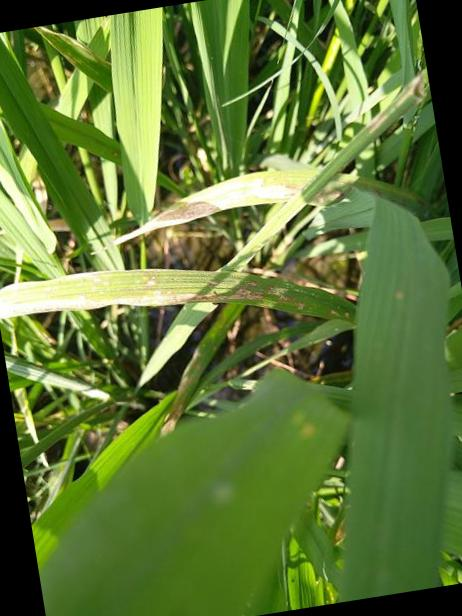Leaf Streak: (0, 266, 326, 321), (113, 165, 327, 246)
